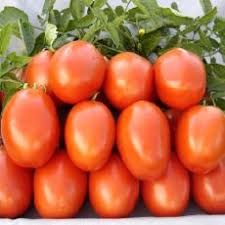tomato: (117, 102, 176, 179), (170, 106, 225, 174), (148, 38, 205, 103), (2, 86, 55, 154), (66, 103, 112, 169), (101, 45, 151, 102), (49, 41, 98, 95)
